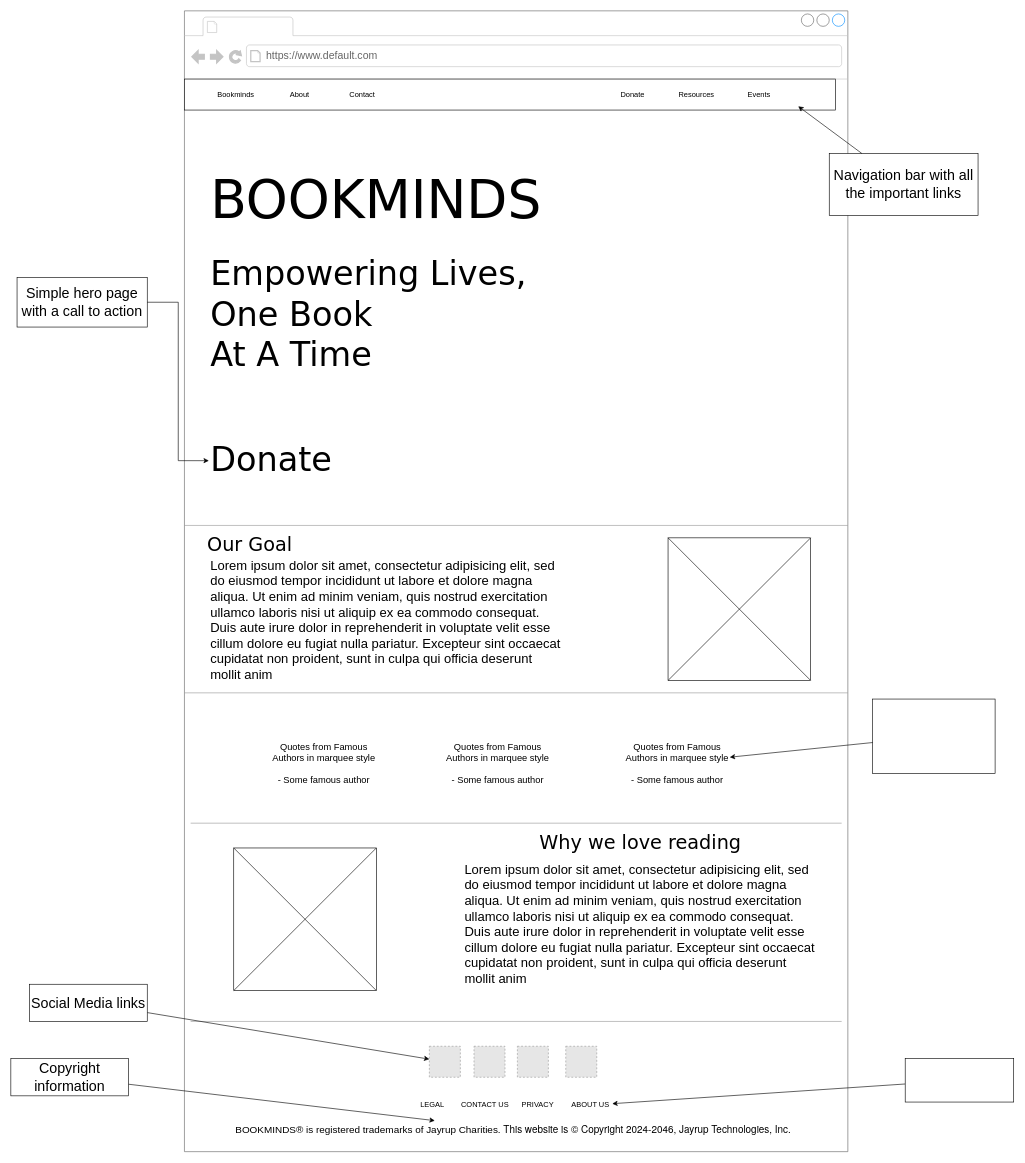
Some shapes in this 1025 by 1163 pixel diagram are drawn without their labels. Grey dashed boxes stand in for pictures. Here are the shapes that lost their labels. From the top down, the centre of each, then its label:
At pixel 255 26: "Page 1".
At pixel 933 735: "Quotes from famous authors for inspiration".
At pixel 959 1080: "Additional links".
